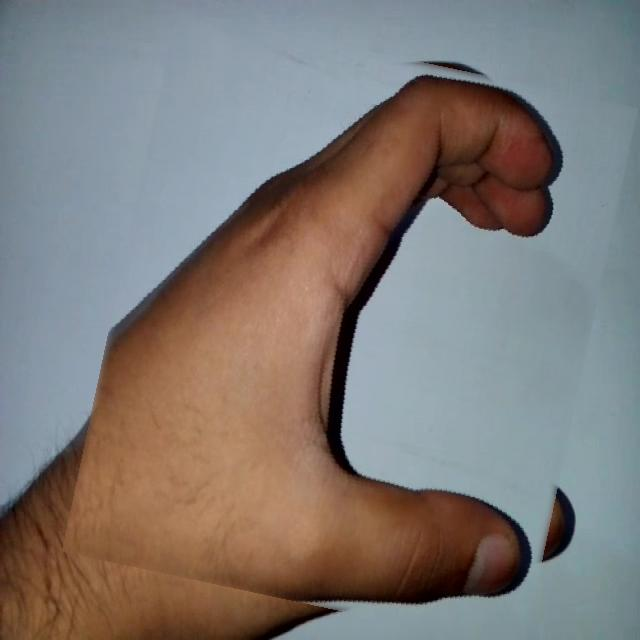C: (88, 32, 612, 628)
